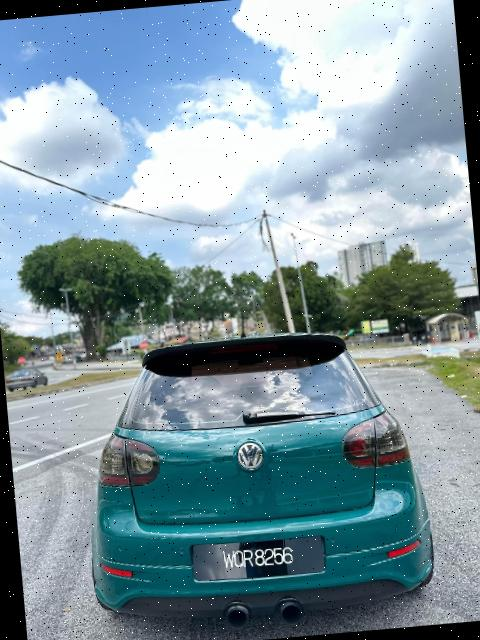License_Plate: (198, 535, 320, 584)
car: (64, 315, 456, 638)
